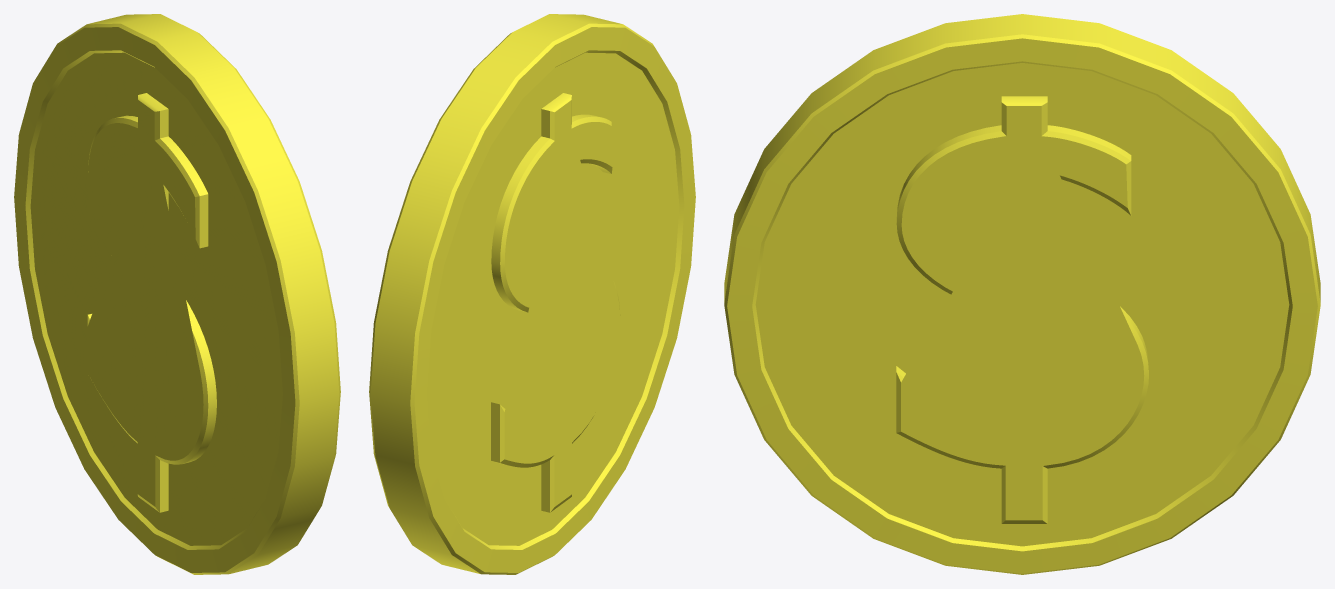
The model's file is Coin.fbx.
3 views of the same model, side by side, from view 1: azimuth 30°, elevation 25°; view 2: azimuth 150°, elevation 25°; view 3: azimuth 270°, elevation 25° (orthographic). The views are drawn at different scales.
Visible parts, largest first — view 1: Circle; view 2: Circle; view 3: Circle.
Boxes of the visible parts, bbox=[...] form: Circle: bbox=[14, 14, 340, 574]; Circle: bbox=[369, 14, 695, 574]; Circle: bbox=[724, 14, 1320, 574].
Size of the model in its own units: 3.41 by 25.96 by 25.96.
